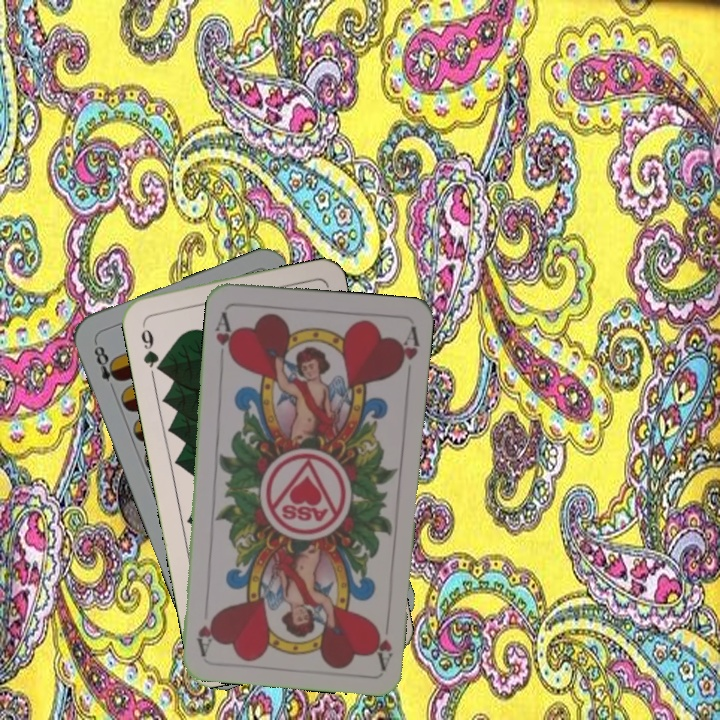E8: (89, 338, 124, 395)
G9: (137, 318, 166, 375)
HA: (210, 308, 238, 365), (369, 611, 395, 671)
